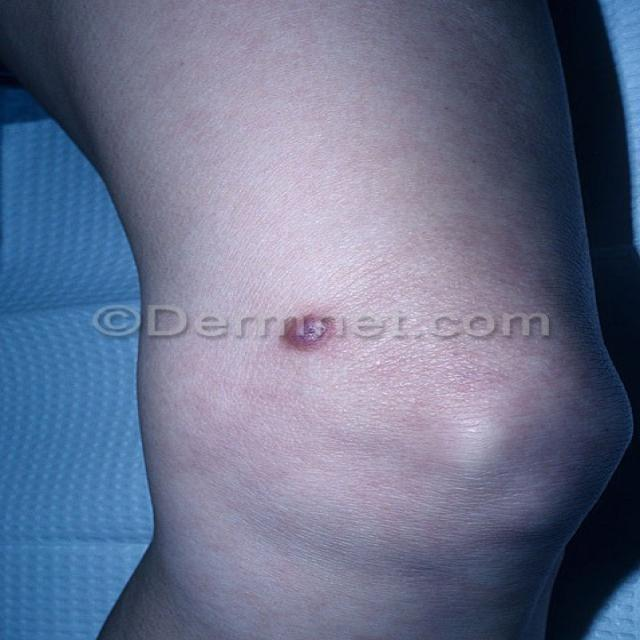Eczema: (270, 308, 338, 371)
